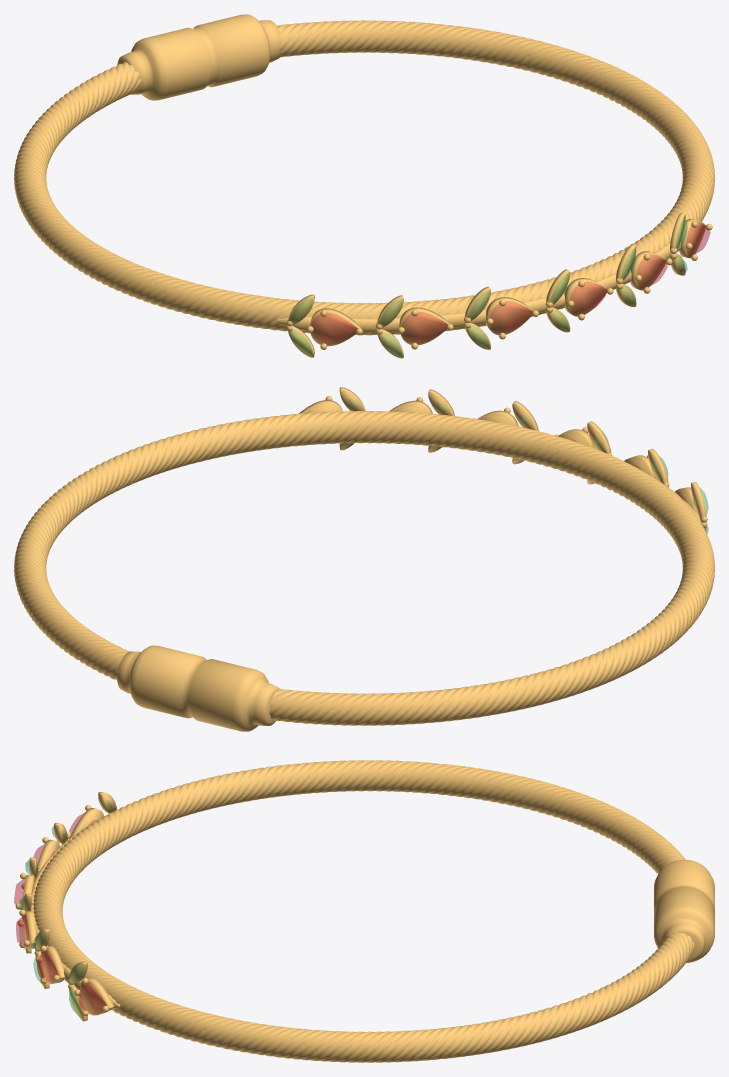
Rendered from bracelet.glb.
3 renders of one model, top to bottom at view 1: azimuth 30°, elevation 25°; view 2: azimuth 150°, elevation 25°; view 3: azimuth 270°, elevation 25°, orthographic. The views are drawn at different scales.
Visible parts, largest first — view 1: Cable, Vine_Gold, Clasp, Rubies, Emeralds; view 2: Cable, Clasp, Vine_Gold; view 3: Cable, Vine_Gold, Clasp, Rubies, Emeralds.
Part boxes in pixels (x1,y1,x2,y2): Cable: (14, 20, 714, 335); Vine_Gold: (277, 213, 712, 358); Clasp: (117, 14, 281, 100); Rubies: (312, 221, 710, 344); Emeralds: (290, 217, 687, 356); Cable: (14, 411, 714, 725); Clasp: (117, 645, 279, 731); Vine_Gold: (299, 387, 707, 530); Cable: (33, 760, 694, 1062); Vine_Gold: (15, 792, 120, 1021); Clasp: (654, 859, 714, 962); Rubies: (14, 813, 105, 1013); Emeralds: (19, 798, 111, 1018).
Size of the model in its own units: 6.5 by 0.6234 by 6.76.
